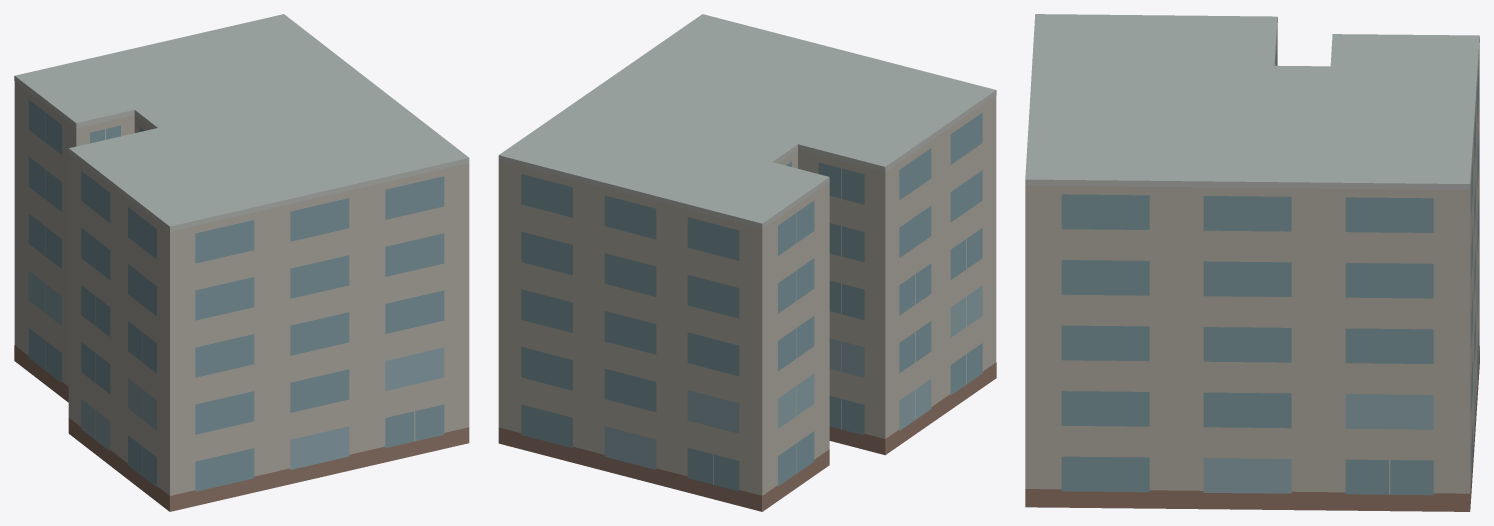
The model's file is survey-upis-32624453.glb.
The picture shows the model from 3 angles, left to right: view 1: azimuth 30°, elevation 25°; view 2: azimuth 150°, elevation 25°; view 3: azimuth 270°, elevation 25°; orthographic projection. The views are drawn at different scales.
Parts seen in each view (by area): view 1: survey-upis-32624453.tmp; view 2: survey-upis-32624453.tmp; view 3: survey-upis-32624453.tmp.
Boxes of the visible parts, left/top/right/bottom form: survey-upis-32624453.tmp: left=14, top=14, right=469, bottom=511; survey-upis-32624453.tmp: left=498, top=14, right=996, bottom=511; survey-upis-32624453.tmp: left=1025, top=14, right=1479, bottom=511.
Bounding box in the file's own units: 15.04 × 13.5 × 16.98.
